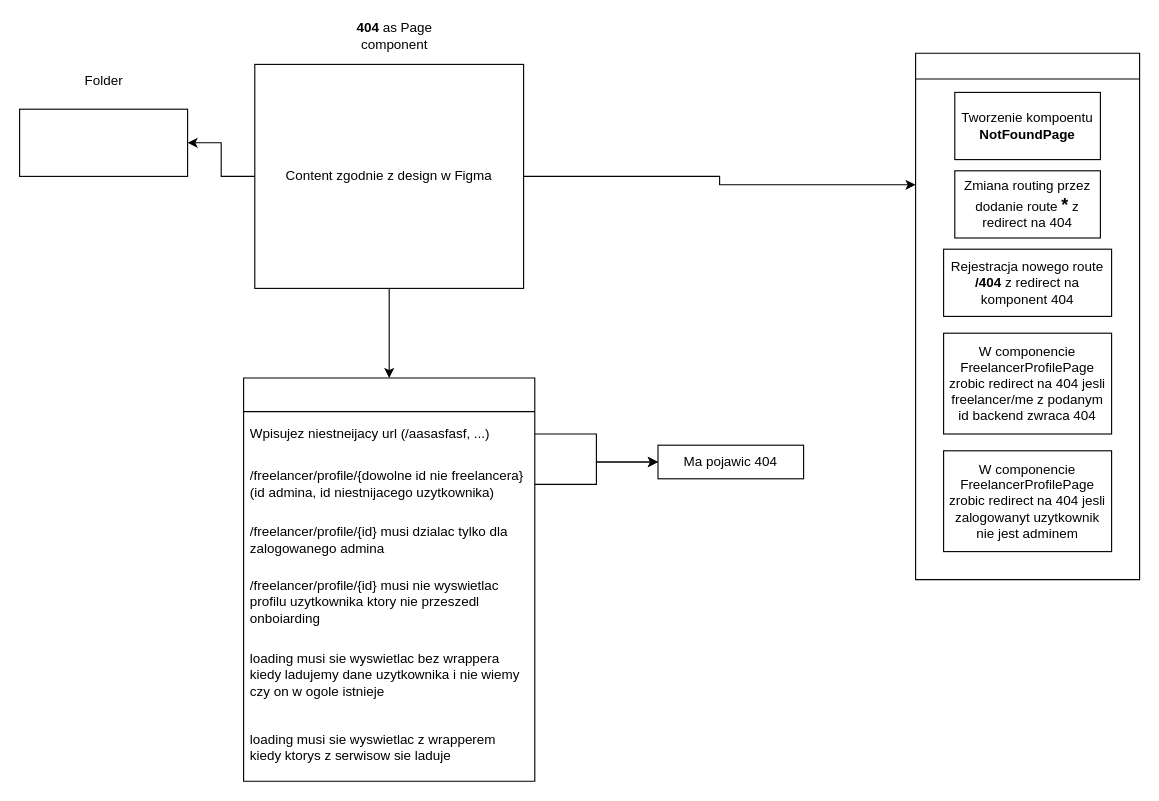
Image size: 1159x801. Some labels were removed from this diagram. The box of each missing label's shape, as (x1, y1, x2, y2) in pixels:
Manual Tests: (242, 377, 535, 781)
src/pages/404 src/pages/NotFoundPage: (18, 108, 188, 176)
Zmiany do zrobienia: (914, 52, 1140, 580)
